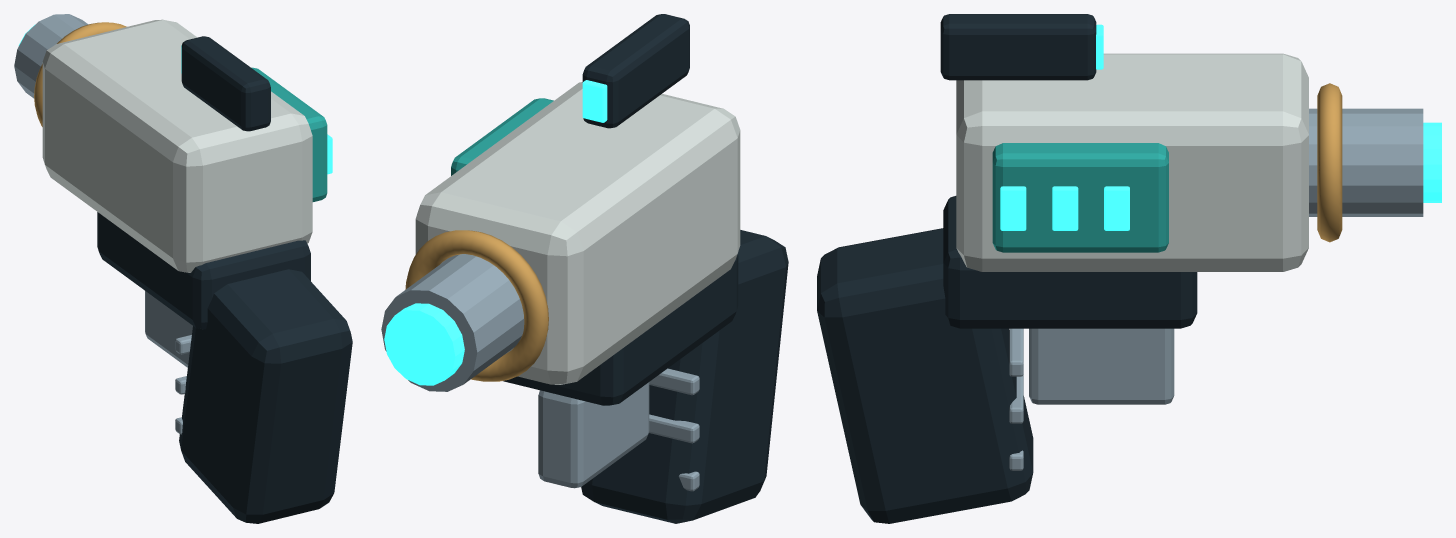
File: argi_sidearm.glb
The picture shows the model from 3 angles, left to right: view 1: azimuth 30°, elevation 25°; view 2: azimuth 150°, elevation 25°; view 3: azimuth 270°, elevation 25°; orthographic projection. The views are drawn at different scales.
Visible parts, largest first — view 1: Geometry_argi_sidearm; view 2: Geometry_argi_sidearm; view 3: Geometry_argi_sidearm.
Part boxes in pixels (bbox=[...]): Geometry_argi_sidearm: bbox=[14, 14, 352, 523]; Geometry_argi_sidearm: bbox=[381, 14, 788, 523]; Geometry_argi_sidearm: bbox=[817, 14, 1441, 523].
Size of the model in its own units: 0.22 by 0.5173 by 0.6022.
